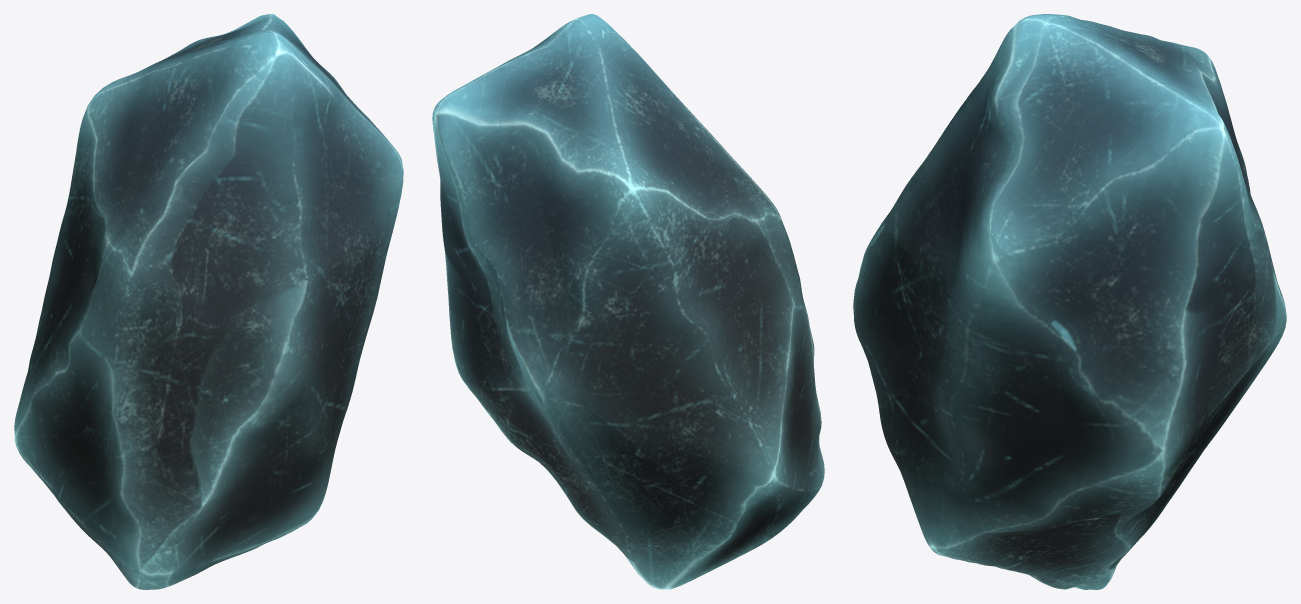
File: Clear_opacity_comp.glb
The picture shows the model from 3 angles, left to right: view 1: azimuth 30°, elevation 25°; view 2: azimuth 150°, elevation 25°; view 3: azimuth 270°, elevation 25°; orthographic projection. The views are drawn at different scales.
Parts seen in each view (by area): view 1: sculpt sristalik; view 2: sculpt sristalik; view 3: sculpt sristalik.
Boxes of the visible parts, x1,y1,x2,y2 form: sculpt sristalik: (14, 14, 403, 589); sculpt sristalik: (432, 14, 824, 589); sculpt sristalik: (853, 14, 1286, 589).
Size of the model in its own units: 1.78 by 2.67 by 1.67.
Materials: 1 (1 with a texture image).
